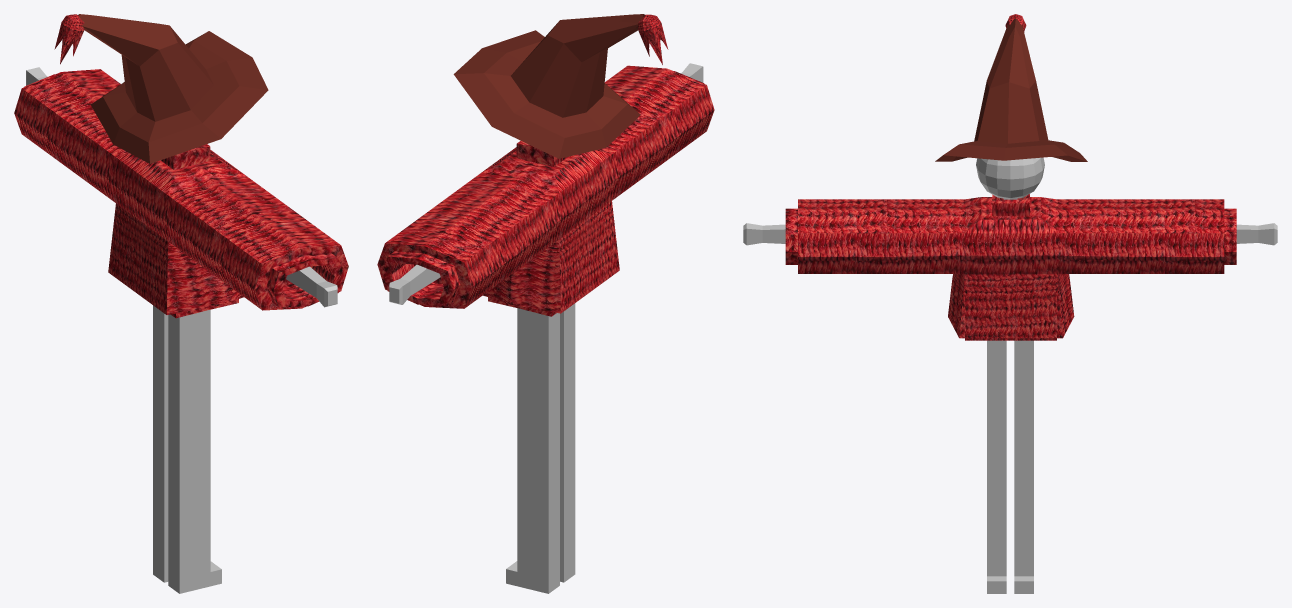
File: AAAscarecrowTW.fbx
The picture shows the model from 3 angles, left to right: view 1: azimuth 30°, elevation 25°; view 2: azimuth 150°, elevation 25°; view 3: azimuth 270°, elevation 25°; orthographic projection. The views are drawn at different scales.
Parts seen in each view (by area): view 1: Cube.002, Cube, Cube.003, Cube.004; view 2: Cube.002, Cube, Cube.003, Cube.004; view 3: Cube.002, Cube, Cube.003, Cube.001.
Part boxes in pixels (x1,y1,x2,y2): Cube.002: (14, 69, 348, 318); Cube: (26, 67, 337, 593); Cube.003: (78, 14, 268, 163); Cube.004: (54, 14, 84, 64); Cube.002: (377, 65, 714, 316); Cube: (389, 63, 703, 593); Cube.003: (453, 14, 644, 158); Cube.004: (638, 14, 668, 64); Cube.002: (785, 194, 1236, 340); Cube: (743, 198, 1277, 593); Cube.003: (935, 18, 1087, 161); Cube.001: (976, 157, 1044, 199).
Size of the model in its own units: 817 by 2444 by 2272.
